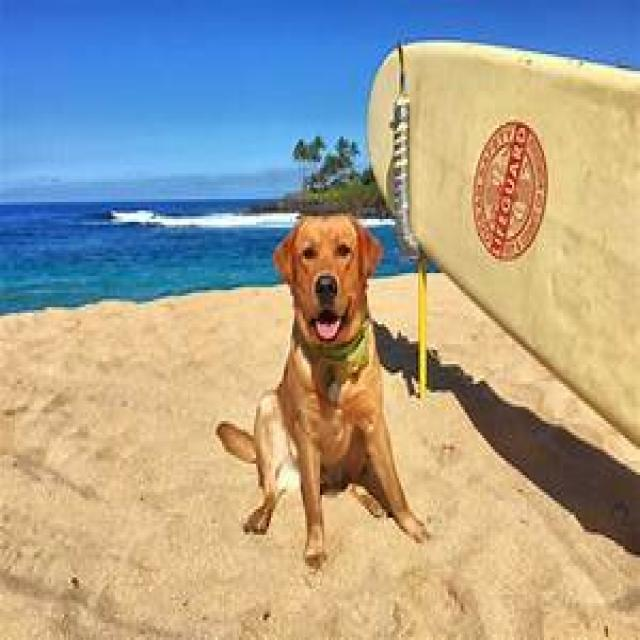dog: (218, 215, 428, 566)
